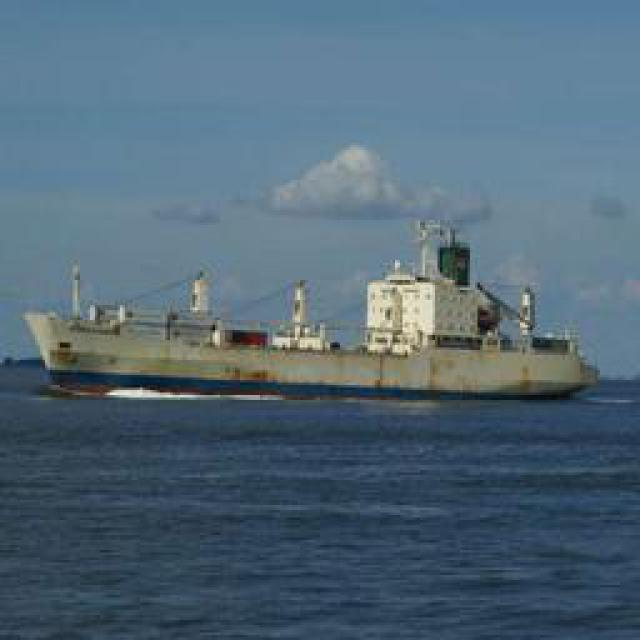Ship: (24, 221, 604, 406)
